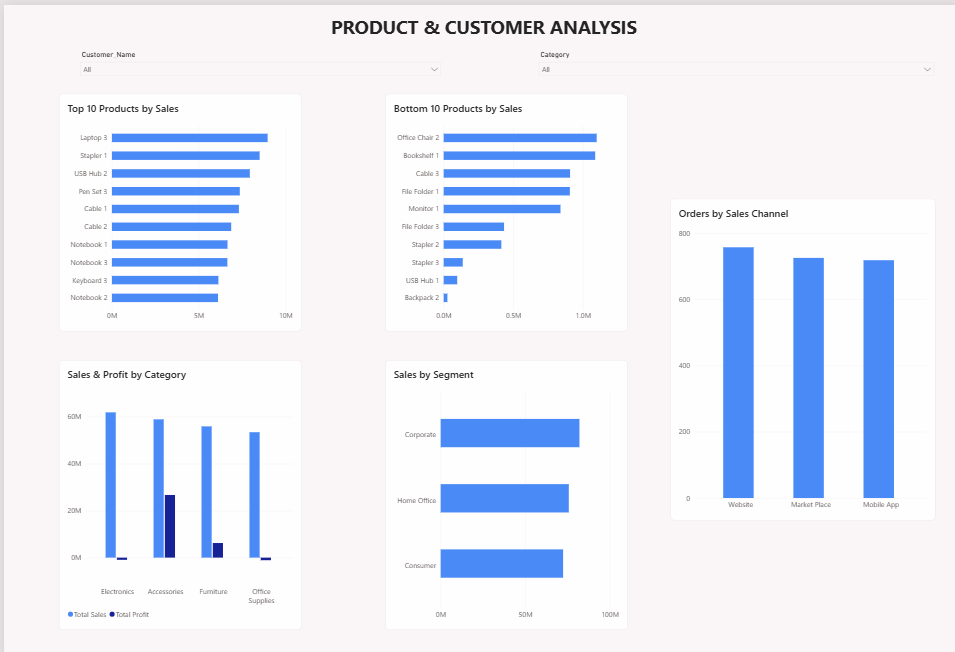

This screenshot's page, from the dashboard's own definition file:
{"tool":"powerbi","page":{"name":"Product & Customer Analysis","canvas":[1920,1300],"ordinal":1},"visuals":[{"type":"clusteredBarChart","title":"Top 10 Products by Sales","fields":{"Category":["DimProduct.Product_Name"],"Y":["FactSales.Total Sales"]},"box":[110,176.7,484.4,475.6],"z":0},{"type":"clusteredColumnChart","title":"Sales & Profit by Category","fields":{"Category":["DimProduct.Category"],"Y":["FactSales.Total Sales","FactSales.Total Profit"]},"box":[110,710,484.4,540],"z":1},{"type":"clusteredBarChart","title":"Sales by Segment","fields":{"Category":["DimCustomer.Segment"],"Y":["FactSales.Total Sales"]},"box":[763.3,710,484.4,540],"z":2},{"type":"clusteredColumnChart","title":"Orders by Sales Channel","fields":{"Category":["FactSales.Sales_Channel"],"Y":["FactSales.Total Orders"]},"box":[1333.3,386.7,530,643.3],"z":3},{"type":"clusteredBarChart","title":"Bottom 10 Products by Sales","fields":{"Category":["DimProduct.Product_Name"],"Y":["FactSales.Total Sales"]},"box":[763.3,176.7,484.4,475.6],"z":4},{"type":"slicer","fields":{"Values":["DimCustomer.Customer_Name"]},"box":[146.7,91.1,731.1,73.3],"z":5},{"type":"slicer","fields":{"Values":["DimProduct.Category"]},"box":[1064.4,91.1,800,73.3],"z":6},{"type":"textbox","box":[0,17.8,1920,88.9],"z":7}]}

Visuals, with their boxes in screenshot pixels (x1, y1, x2, y2), scaled from the page's 1920x1300 canvas onto the 955x652 screenshot:
"Top 10 Products by Sales" clusteredBarChart: <region>55, 89, 296, 327</region>
"Sales & Profit by Category" clusteredColumnChart: <region>55, 356, 296, 627</region>
"Sales by Segment" clusteredBarChart: <region>380, 356, 621, 627</region>
"Orders by Sales Channel" clusteredColumnChart: <region>663, 194, 927, 517</region>
"Bottom 10 Products by Sales" clusteredBarChart: <region>380, 89, 621, 327</region>
slicer - DimCustomer.Customer_Name: <region>73, 46, 437, 82</region>
slicer - DimProduct.Category: <region>529, 46, 927, 82</region>
textbox: <region>0, 9, 954, 54</region>
